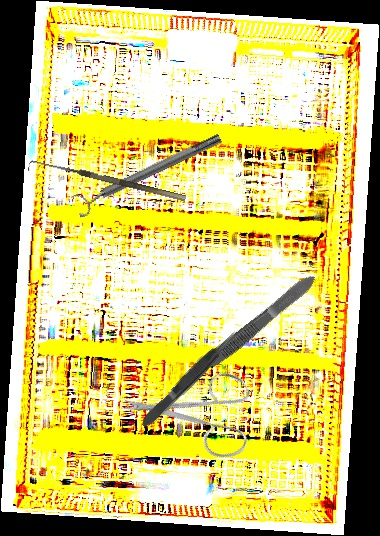Fixation Ring: (70, 127, 226, 219)
Hook Surgical: (27, 156, 187, 210)
Iris Scissors: (117, 339, 275, 494)
Tissue Forceps: (181, 270, 320, 389), (136, 327, 243, 431)
